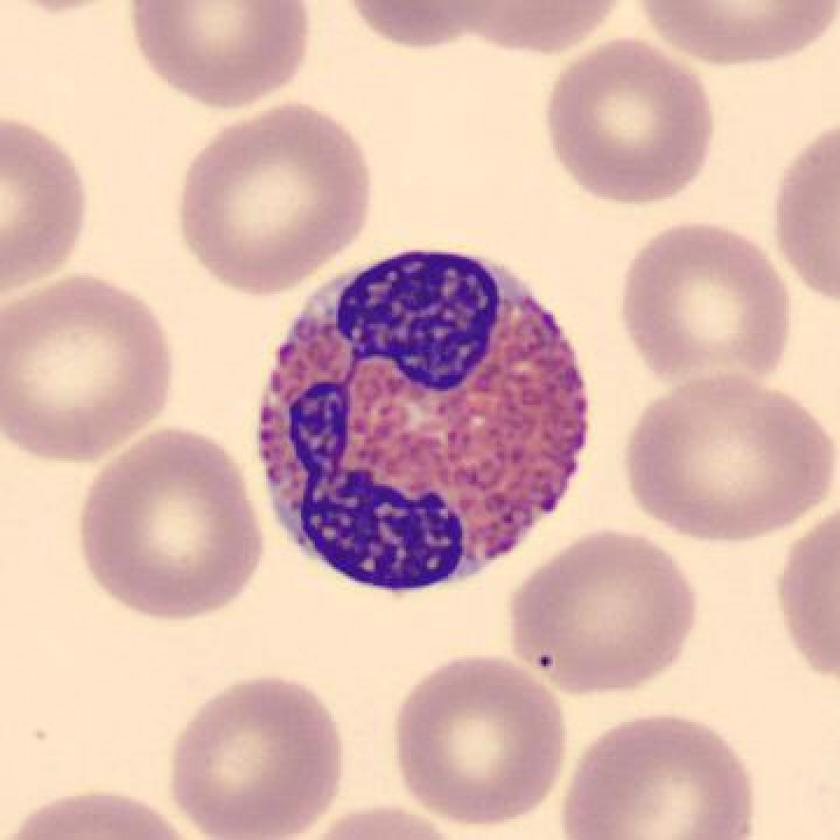eosinophil: (246, 235, 601, 607)
